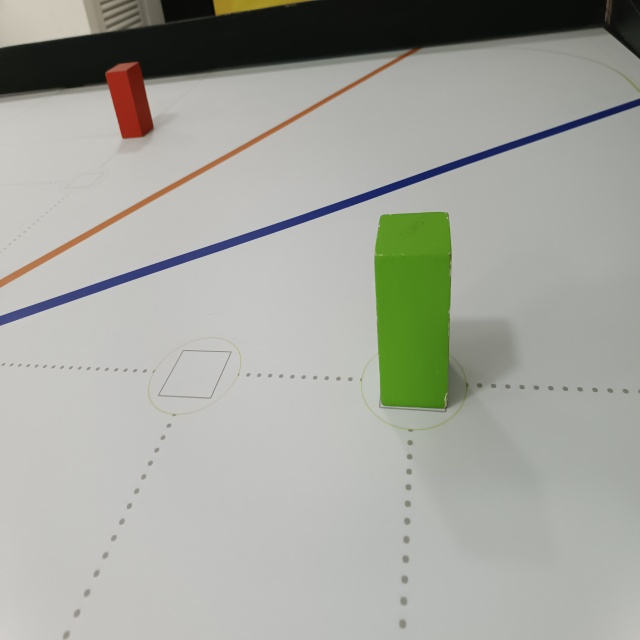blue line: (0, 98, 637, 331)
green rectangular prism: (371, 212, 456, 412)
orange line: (0, 44, 416, 288)
red rectangular prism: (104, 61, 155, 142)
